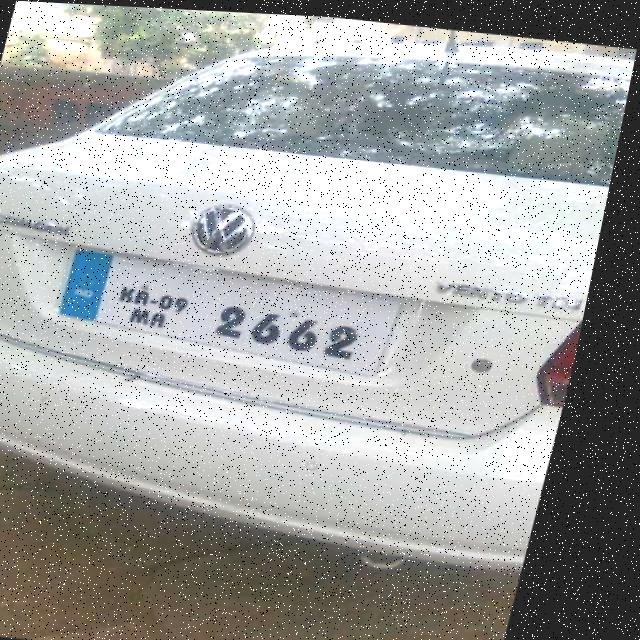license_plate: (63, 245, 414, 363)
